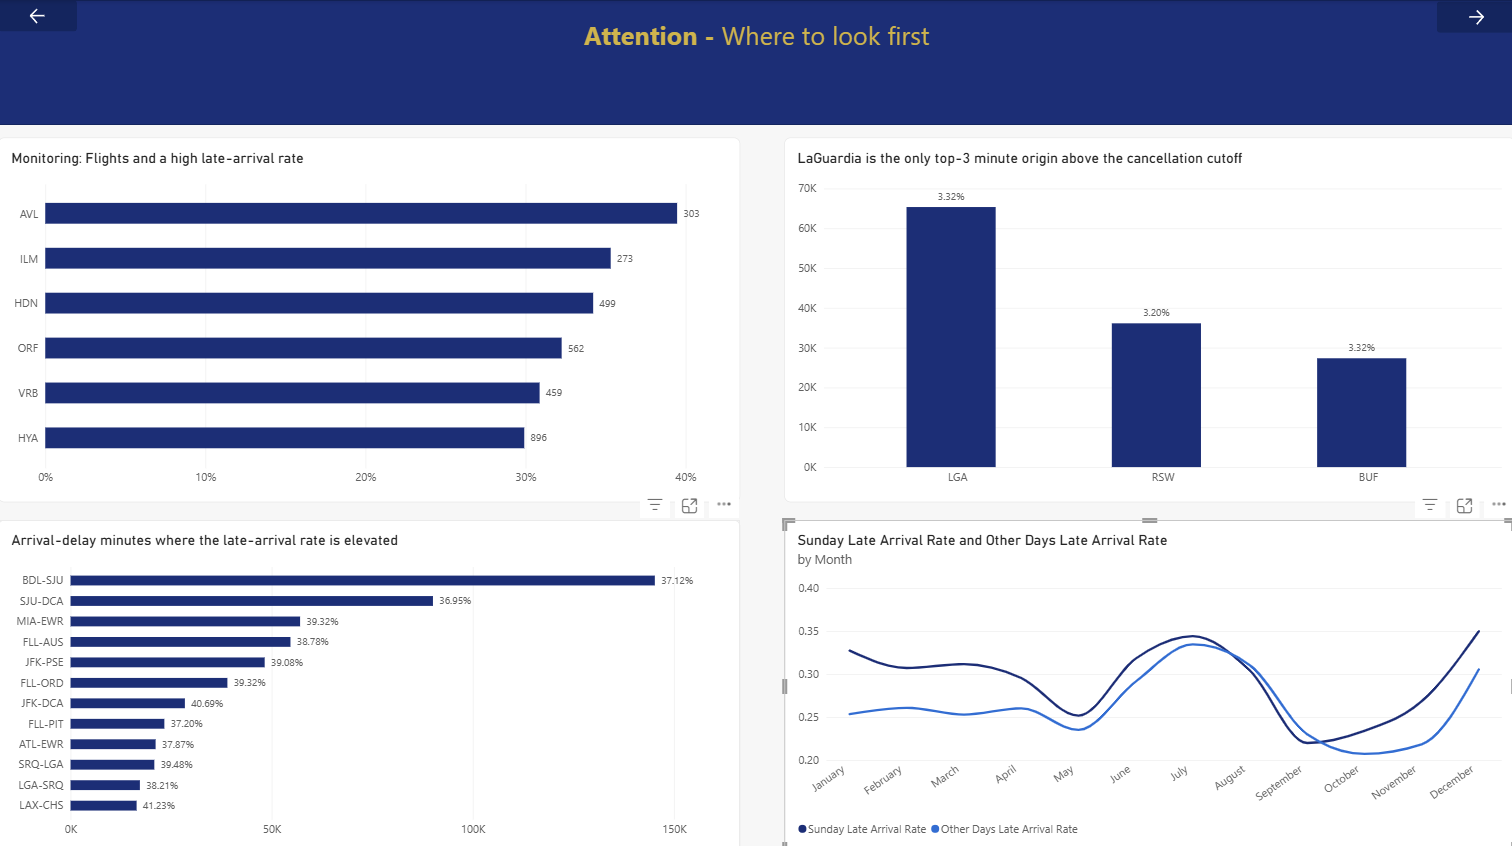

Layout of this report page (visuals, bound fields, positions):
{"tool":"powerbi","page":{"name":"Attention","canvas":[1920,1080],"ordinal":5},"visuals":[{"type":"barChart","title":"Monitoring: Flights and a high late-arrival rate","fields":{"Category":["Dim_Origin.Airport"],"Y":["Fact_Flight.Late Arrival Rate"]},"box":[1080.6,0,839.8,339.6],"z":1000},{"type":"clusteredBarChart","title":"Arrival-delay minutes where the late-arrival rate is elevated","fields":{"Category":["Dim_Route.Route_Key"],"Y":["Fact_Flight.Arrival Delay Minutes"]},"box":[1080.6,356.1,839.8,349.9],"z":2000},{"type":"shape","box":[0,0,1051.8,158.5],"z":3000},{"type":"textbox","box":[0,22.6,1051.8,135.8],"z":4000},{"type":"actionButton","box":[0,0,100,40],"z":5000},{"type":"actionButton","box":[1820.9,2.2,100,40],"z":6000},{"type":"textbox","box":[0,181.4,1036,898.3],"z":6001},{"type":"columnChart","title":"LaGuardia is the only top-3 minute origin above the cancellation cutoff","fields":{"Category":["Dim_Origin.Airport"],"Y":["Fact_Flight.Flights"]},"box":[1081.4,723.8,839,357.6],"z":6002}]}

Visuals, with their boxes on the page's 1920x1080 design canvas (x1, y1, x2, y2). These are canvas units, not pixel positions in the 1512x846 screenshot, which may show the page scaled, cropped or inside an application window:
"Monitoring: Flights and a high late-arrival rate" barChart: 1081:0:1920:340
"Arrival-delay minutes where the late-arrival rate is elevated" clusteredBarChart: 1081:356:1920:706
shape: 0:0:1052:158
textbox: 0:23:1052:158
actionButton: 0:0:100:40
actionButton: 1821:2:1921:42
textbox: 0:181:1036:1080
"LaGuardia is the only top-3 minute origin above the cancellation cutoff" columnChart: 1081:724:1920:1081
